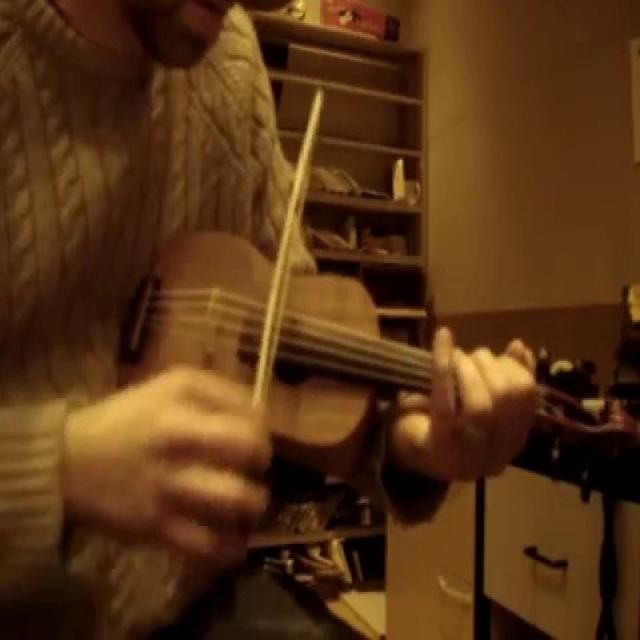Violin: (101, 208, 640, 514)
